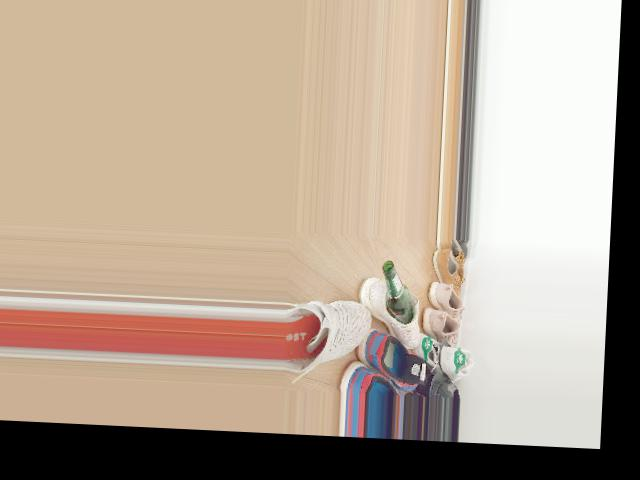beer: (379, 259, 416, 324)
